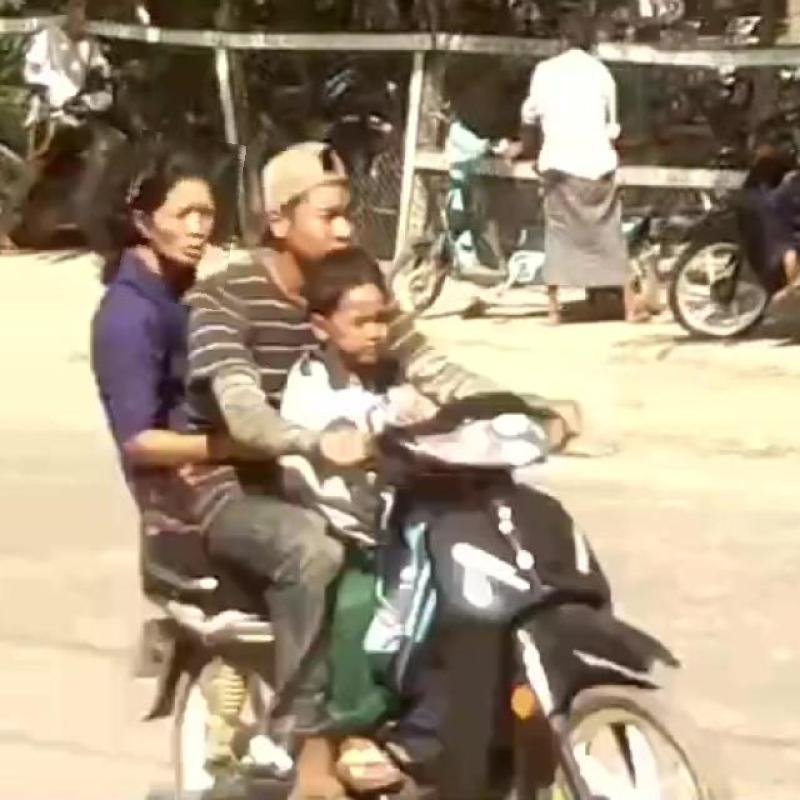nohelmet: (257, 94, 379, 278), (121, 132, 240, 306)
